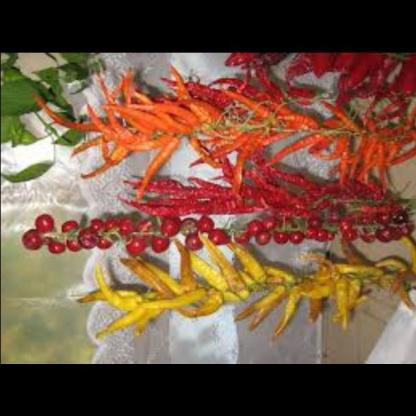hot pepper: (65, 65, 416, 195), (16, 164, 416, 260), (78, 244, 416, 344), (226, 52, 416, 106)
